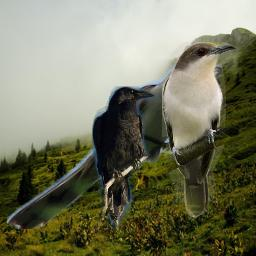Crow: (92, 86, 156, 230)
Cuckoo: (7, 60, 222, 229), (162, 42, 237, 219)
